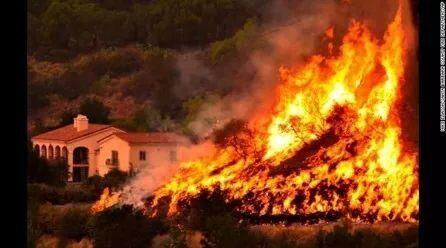fire: (358, 32, 422, 215), (267, 56, 358, 153), (166, 153, 243, 200)
smoke: (172, 43, 261, 143), (268, 7, 327, 55)
